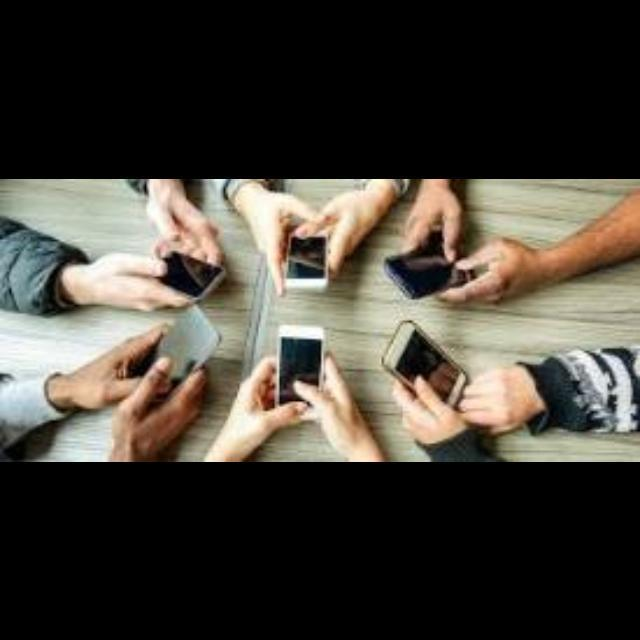PhoneUse: (383, 321, 469, 414), (142, 302, 222, 390), (384, 245, 478, 298), (277, 324, 323, 418), (157, 252, 229, 300), (285, 228, 329, 290)
